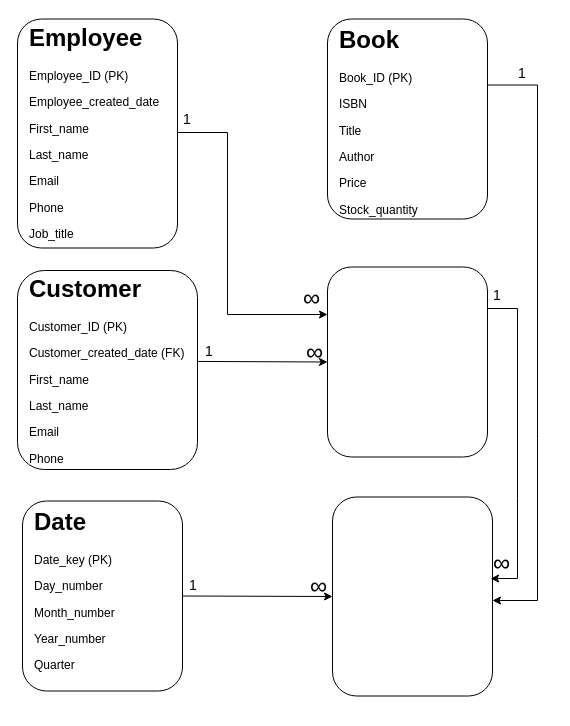
The diagram is 570 pixels wide and 726 high, and some of its shapes have lost their labels. Each missing label, with the centre of its shape:
Order Order_ID (PK) Order_date Customer_ID Employee_ID Total_amount: the point at 407,361
Sales Sales_ID (PK) Order_ID (FK) Book_ID (FK) Quantity Unit_price: the point at 412,596
